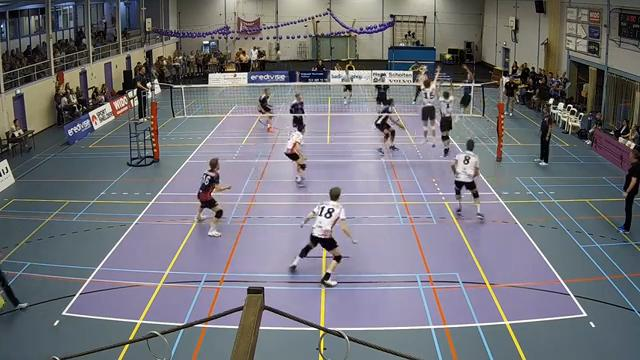Attack: (450, 62, 475, 129)
Block: (414, 62, 438, 149), (432, 79, 456, 156)
Player: (290, 187, 356, 286), (195, 158, 230, 236), (452, 139, 483, 220), (374, 99, 398, 155), (284, 129, 306, 186), (289, 93, 305, 133), (258, 88, 272, 131), (375, 75, 388, 108), (341, 69, 352, 104)
ball: (445, 53, 452, 60)
